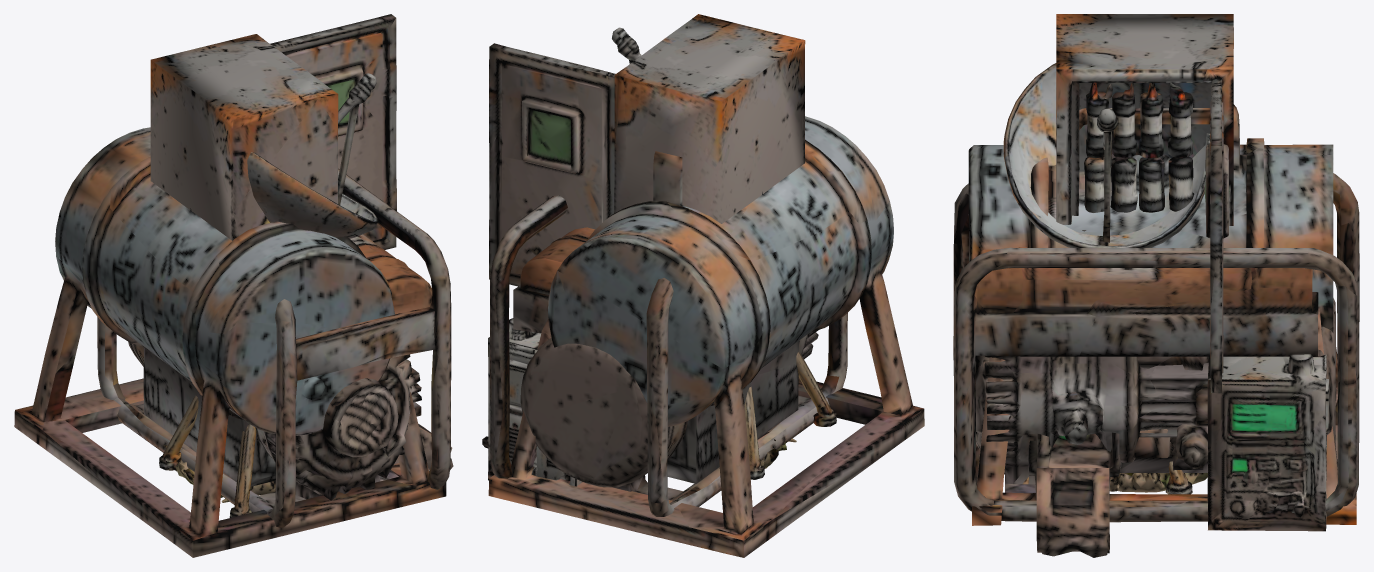
File: industrial+machinery+3d+model.fbx
3 views of the same model, side by side, from view 1: azimuth 30°, elevation 25°; view 2: azimuth 150°, elevation 25°; view 3: azimuth 270°, elevation 25° (orthographic). The views are drawn at different scales.
Parts seen in each view (by area): view 1: tripo_node_cd6574aa.003, tripo_node_cd6574aa.001, tripo_node_cd6574aa.002, tripo_node_cd6574aa; view 2: tripo_node_cd6574aa.003, tripo_node_cd6574aa.001, tripo_node_cd6574aa.002, tripo_node_cd6574aa; view 3: tripo_node_cd6574aa.002, tripo_node_cd6574aa.003, tripo_node_cd6574aa.001, tripo_node_cd6574aa.
Boxes of the visible parts, x1=… form: tripo_node_cd6574aa.003: x1=14, y1=127, x2=453, y2=557; tripo_node_cd6574aa.001: x1=150, y1=14, x2=396, y2=502; tripo_node_cd6574aa.002: x1=97, y1=168, x2=451, y2=527; tripo_node_cd6574aa: x1=159, y1=73, x2=378, y2=517; tripo_node_cd6574aa.003: x1=488, y1=116, x2=924, y2=557; tripo_node_cd6574aa.001: x1=489, y1=14, x2=805, y2=482; tripo_node_cd6574aa.002: x1=490, y1=195, x2=847, y2=516; tripo_node_cd6574aa: x1=482, y1=27, x2=836, y2=486; tripo_node_cd6574aa.002: x1=953, y1=173, x2=1359, y2=522; tripo_node_cd6574aa.003: x1=968, y1=104, x2=1356, y2=557; tripo_node_cd6574aa.001: x1=1056, y1=14, x2=1233, y2=492; tripo_node_cd6574aa: x1=1003, y1=63, x2=1328, y2=531.
Size of the model in its own units: 37.44 by 46.17 by 38.85.
